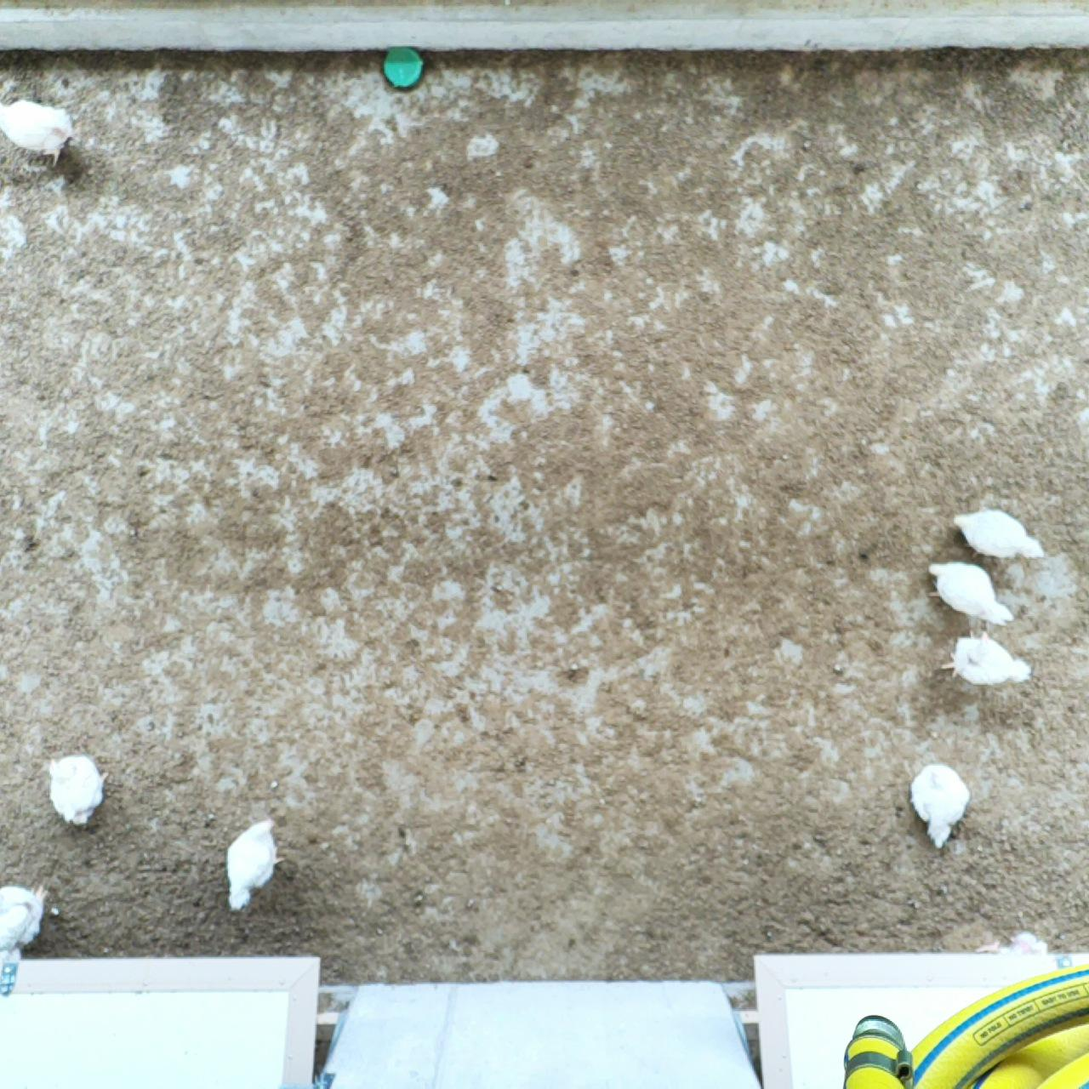chicken: (923, 558, 1017, 626), (953, 506, 1049, 568), (943, 628, 1035, 691), (0, 89, 73, 168), (225, 816, 284, 913), (910, 761, 972, 849), (44, 748, 109, 828), (0, 899, 38, 988), (0, 886, 50, 945)
